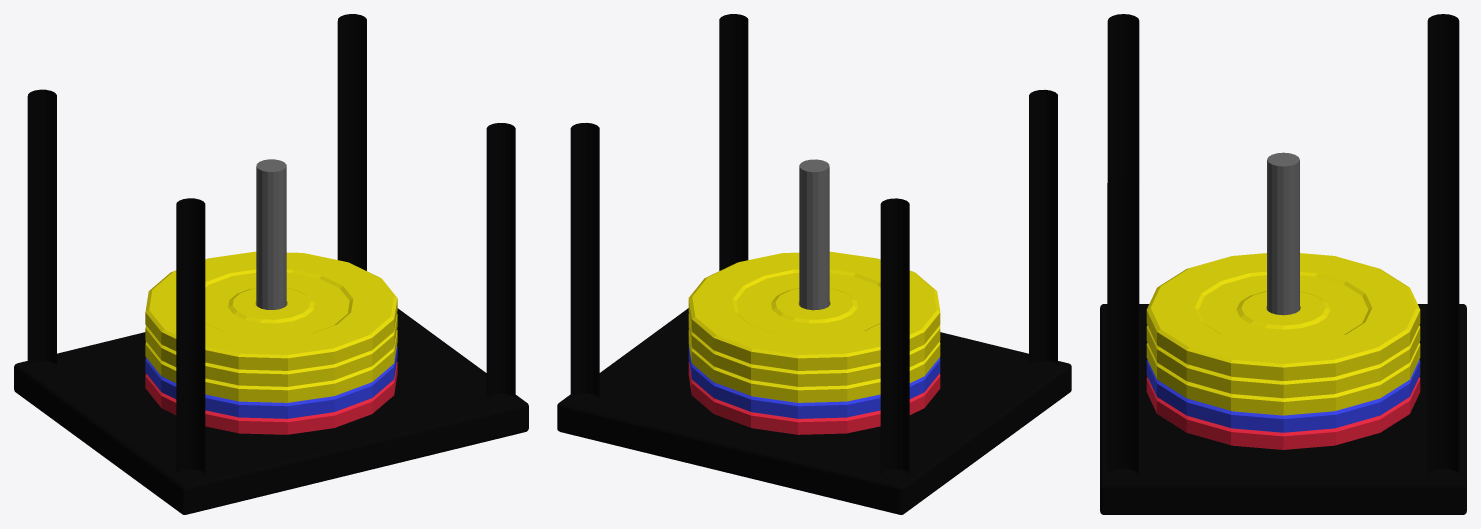
File: Sled.fbx
3 renders of one model, left to right at view 1: azimuth 30°, elevation 25°; view 2: azimuth 150°, elevation 25°; view 3: azimuth 270°, elevation 25°, orthographic. The views are drawn at different scales.
Visible parts, largest first — view 1: Platform, Weight4.001, Weight2, Weight1, Weight3, Weight4; view 2: Platform, Weight4.001, Weight1, Weight2, Weight3, Weight4; view 3: Platform, Weight4.001, Weight4, Weight2, Weight3, Weight1.
Part boxes in pixels (bbox=[...]): Platform: bbox=[14, 14, 528, 514]; Weight4.001: bbox=[145, 251, 397, 370]; Weight2: bbox=[145, 346, 397, 418]; Weight1: bbox=[145, 362, 397, 434]; Weight3: bbox=[145, 330, 397, 402]; Weight4: bbox=[145, 314, 397, 386]; Platform: bbox=[557, 14, 1071, 514]; Weight4.001: bbox=[688, 251, 940, 370]; Weight1: bbox=[688, 362, 940, 434]; Weight2: bbox=[688, 346, 940, 418]; Weight3: bbox=[688, 330, 940, 402]; Weight4: bbox=[688, 314, 940, 386]; Platform: bbox=[1100, 14, 1466, 514]; Weight4.001: bbox=[1146, 253, 1420, 380]; Weight4: bbox=[1146, 325, 1420, 398]; Weight2: bbox=[1146, 359, 1420, 432]; Weight3: bbox=[1146, 342, 1420, 415]; Weight1: bbox=[1146, 377, 1420, 449].
Bounding box in the file's own units: 118 × 97.17 × 100.
